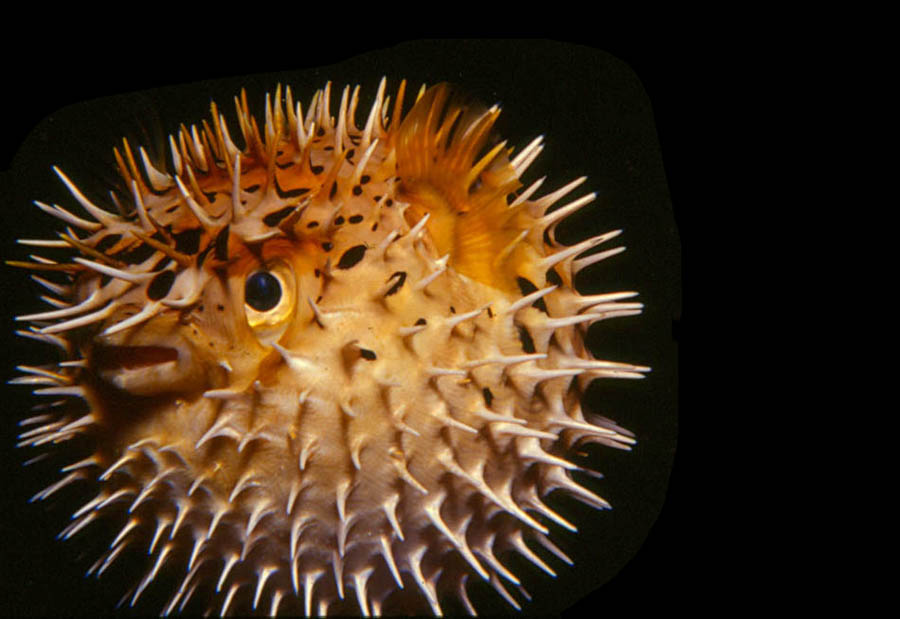Diodon_holocanthus: (3, 52, 670, 619)
